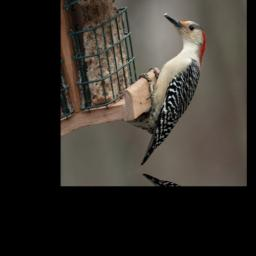Woodpecker: (109, 1, 226, 168)
